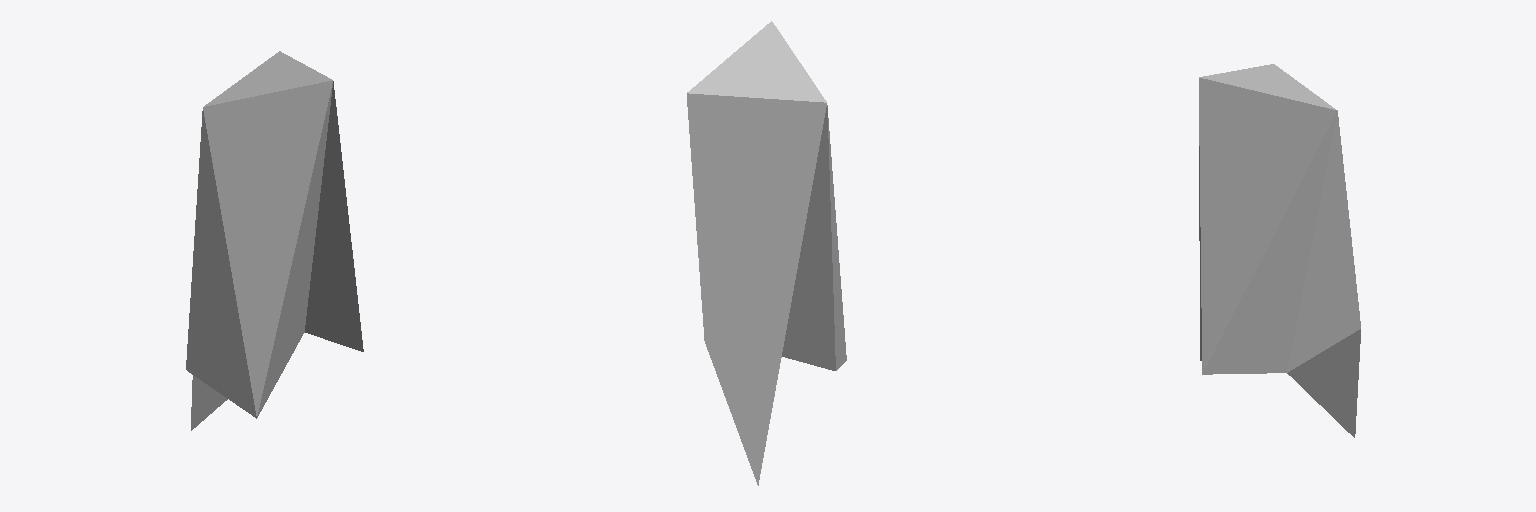
The model's file is SeguaroCactusSmall_LOD2.obj.
The picture shows the model from 3 angles: view 1: azimuth 30°, elevation 25°; view 2: azimuth 150°, elevation 25°; view 3: azimuth 270°, elevation 25°; orthographic projection.
Parts seen in each view (by area): view 1: SeguaroCactusSmall_LOD2; view 2: SeguaroCactusSmall_LOD2; view 3: SeguaroCactusSmall_LOD2.
Part boxes in pixels (bbox=[...]): SeguaroCactusSmall_LOD2: bbox=[186, 51, 363, 430]; SeguaroCactusSmall_LOD2: bbox=[687, 21, 846, 485]; SeguaroCactusSmall_LOD2: bbox=[1199, 64, 1360, 437].
Bounding box in the file's own units: 23.81 × 64.75 × 24.28.